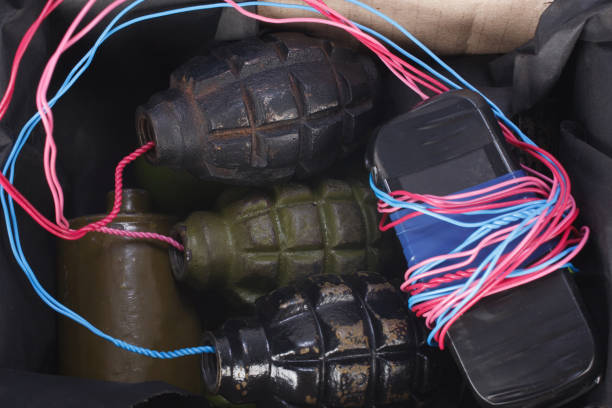e1: (137, 32, 392, 184), (204, 280, 448, 408), (162, 185, 406, 294)
